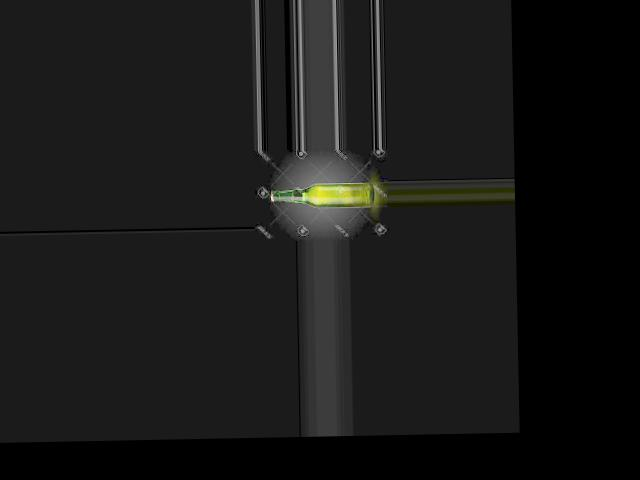beer: (270, 181, 373, 208)
